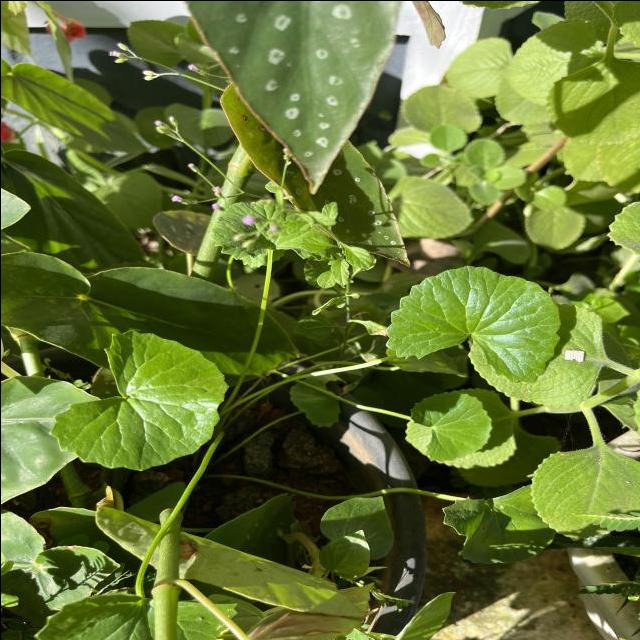Centella asiatica: (45, 326, 232, 473), (382, 261, 564, 384)
